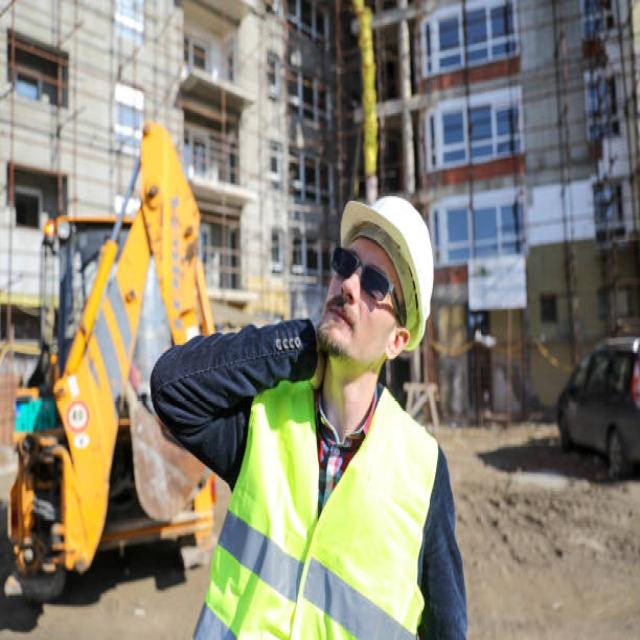without_helmet: (318, 232, 413, 370)
